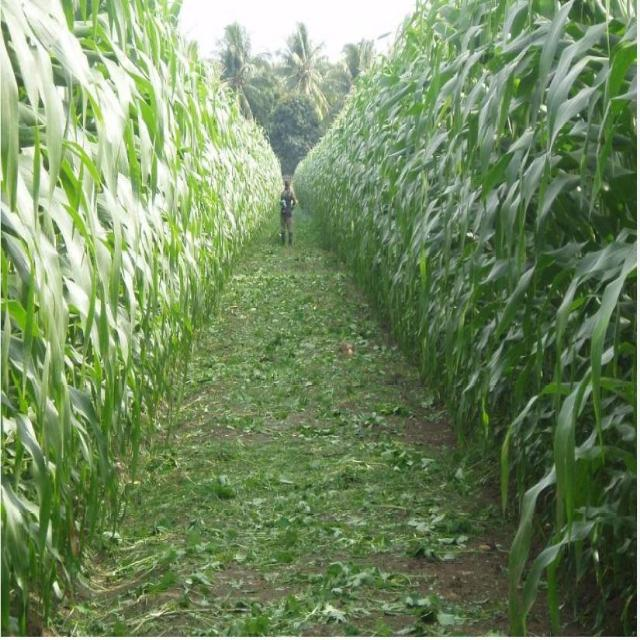row: (46, 177, 586, 635)
